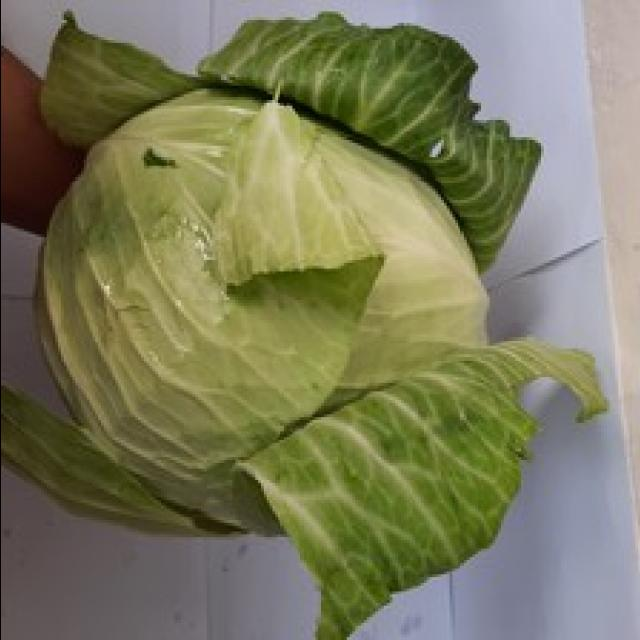organik: (40, 9, 608, 627)
